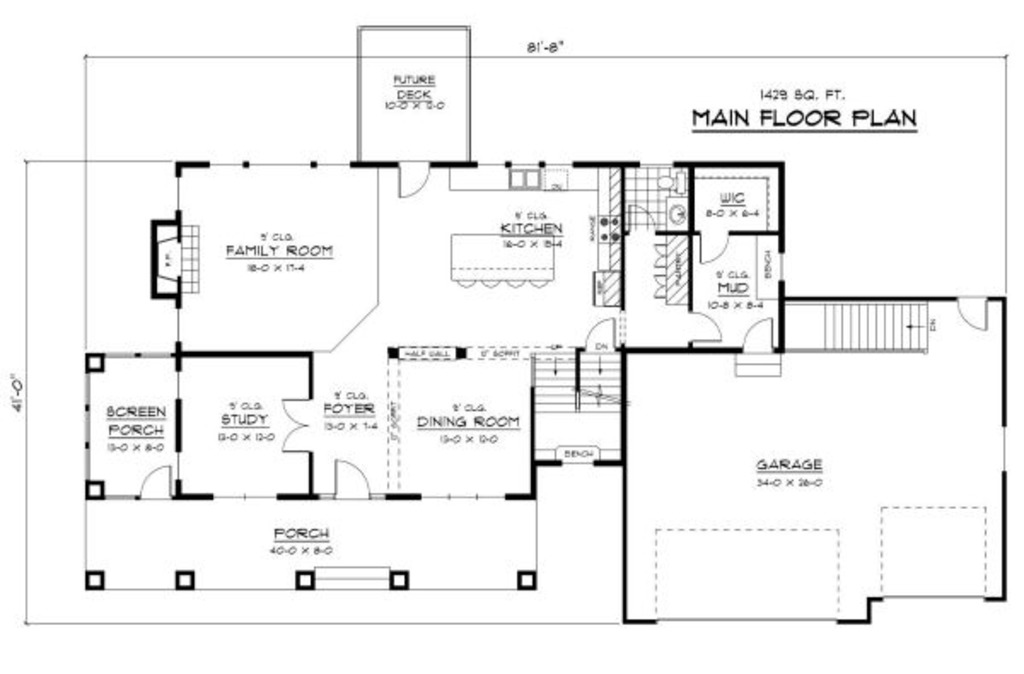door: (276, 394, 313, 457), (331, 454, 369, 499), (393, 159, 431, 200), (684, 309, 726, 345), (694, 229, 732, 268), (740, 316, 777, 351), (134, 464, 171, 499), (956, 294, 987, 331)
kitchen_bar: (443, 230, 557, 296)
small_sink: (664, 195, 695, 232)
stairs: (531, 345, 626, 467), (783, 302, 937, 358)
twin_sink: (506, 166, 544, 192)
windows: (204, 158, 351, 172), (416, 488, 506, 502), (206, 489, 282, 502)
